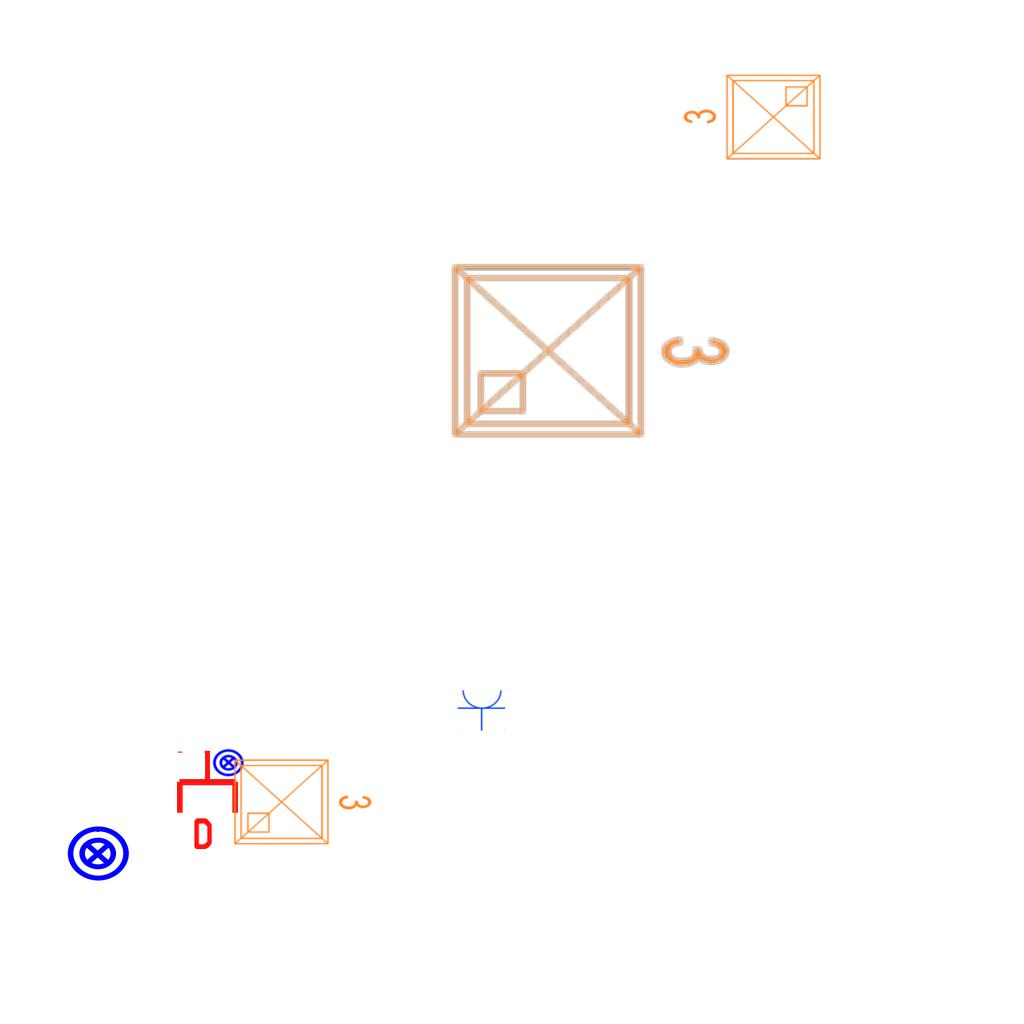Datenanschluss_einfach: (173, 749, 242, 849)
Einbaudownlights_LED_Konferenzraeume: (439, 243, 739, 451), (678, 67, 828, 171), (227, 748, 377, 852)
Schukosteckdose_einfach: (457, 688, 507, 731)
Taster_beleuchtet: (65, 821, 131, 887), (212, 746, 245, 779)
